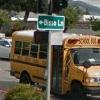buses: (52, 38, 100, 98), (10, 27, 48, 82)
